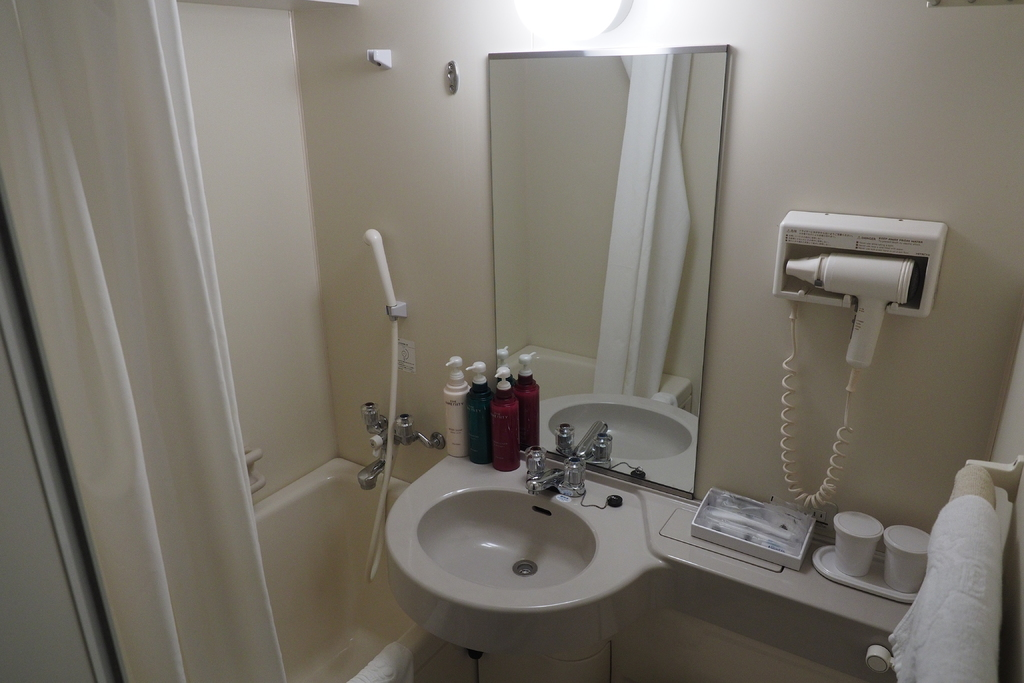tap: (522, 474, 566, 492)
